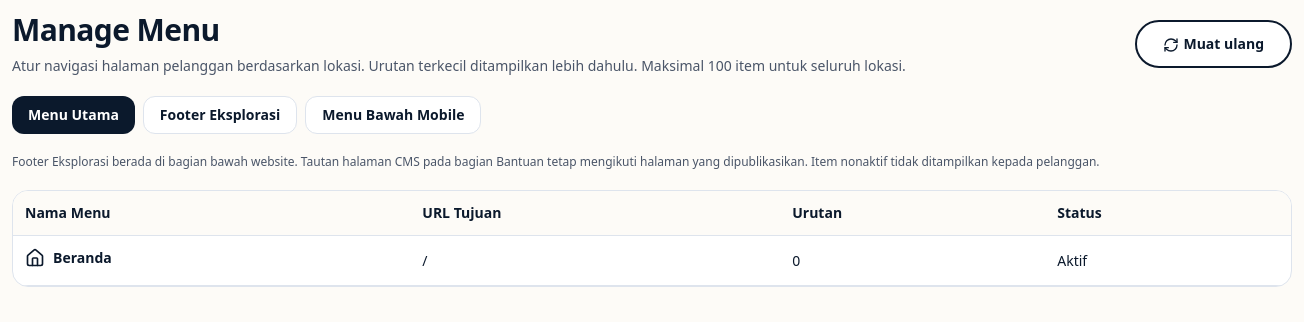
Scenario: read-only staff can view each menu location without mutation controls
The width and height of the screenshot is (1304, 322).
Click the button "Footer Eksplorasi".
click(220, 115)  # box [143,96,297,134]
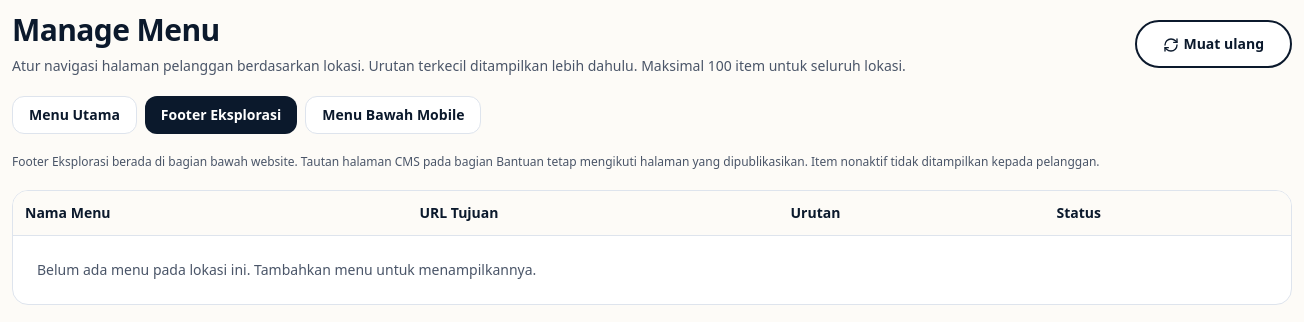
Expected: the text "Belum ada menu pada lokasi ini" is shown, [37,260,536,279]
